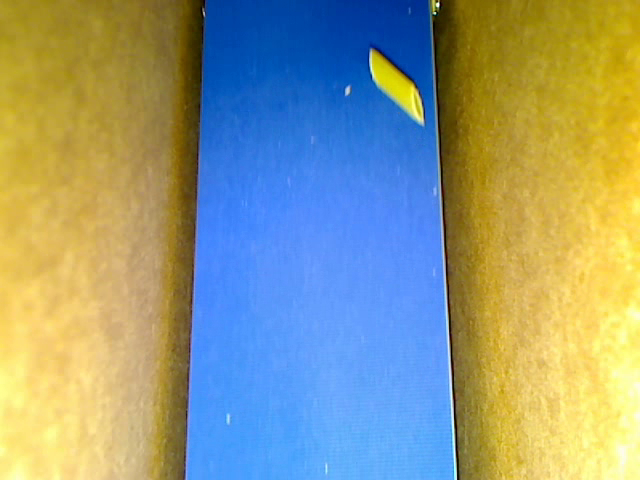penne: (369, 48, 423, 125)
